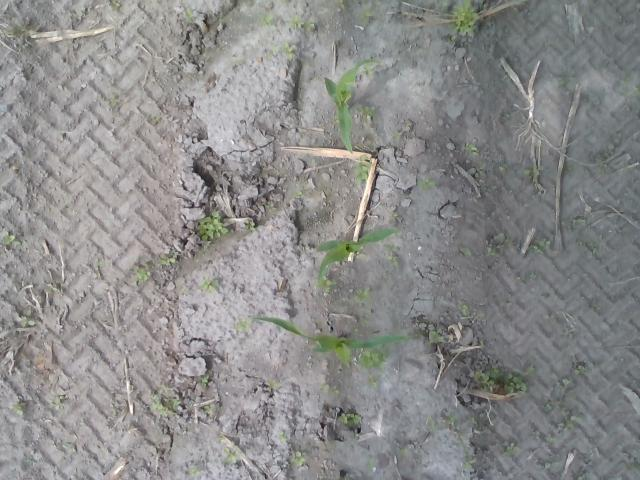Maize: (249, 314, 413, 368), (312, 223, 400, 286), (322, 56, 378, 153)
Weeds: (472, 366, 534, 395), (194, 209, 228, 242), (453, 0, 480, 36), (152, 385, 180, 415), (358, 350, 389, 372), (576, 239, 600, 258), (289, 14, 314, 29), (337, 412, 359, 429), (384, 242, 399, 266), (356, 104, 377, 120), (221, 447, 238, 464), (564, 415, 584, 429), (417, 178, 438, 191), (532, 239, 550, 254), (281, 40, 294, 60), (429, 330, 446, 344), (200, 278, 218, 291), (353, 165, 368, 180), (19, 316, 36, 328), (463, 144, 480, 156), (464, 450, 474, 470), (158, 255, 176, 266), (356, 288, 370, 302), (1, 230, 15, 244), (502, 446, 518, 458), (573, 365, 587, 377), (259, 14, 273, 26), (318, 382, 332, 394), (292, 452, 304, 466), (135, 270, 151, 280), (13, 404, 24, 418), (319, 278, 334, 288), (522, 168, 540, 176), (366, 456, 376, 470), (278, 431, 288, 444), (368, 374, 378, 386), (456, 304, 468, 314), (182, 7, 194, 17), (486, 246, 496, 257), (244, 220, 255, 230), (386, 210, 396, 220), (448, 415, 457, 426), (334, 0, 346, 8), (190, 467, 200, 476), (238, 320, 246, 331), (392, 131, 400, 141), (200, 375, 208, 384), (204, 406, 215, 412)
